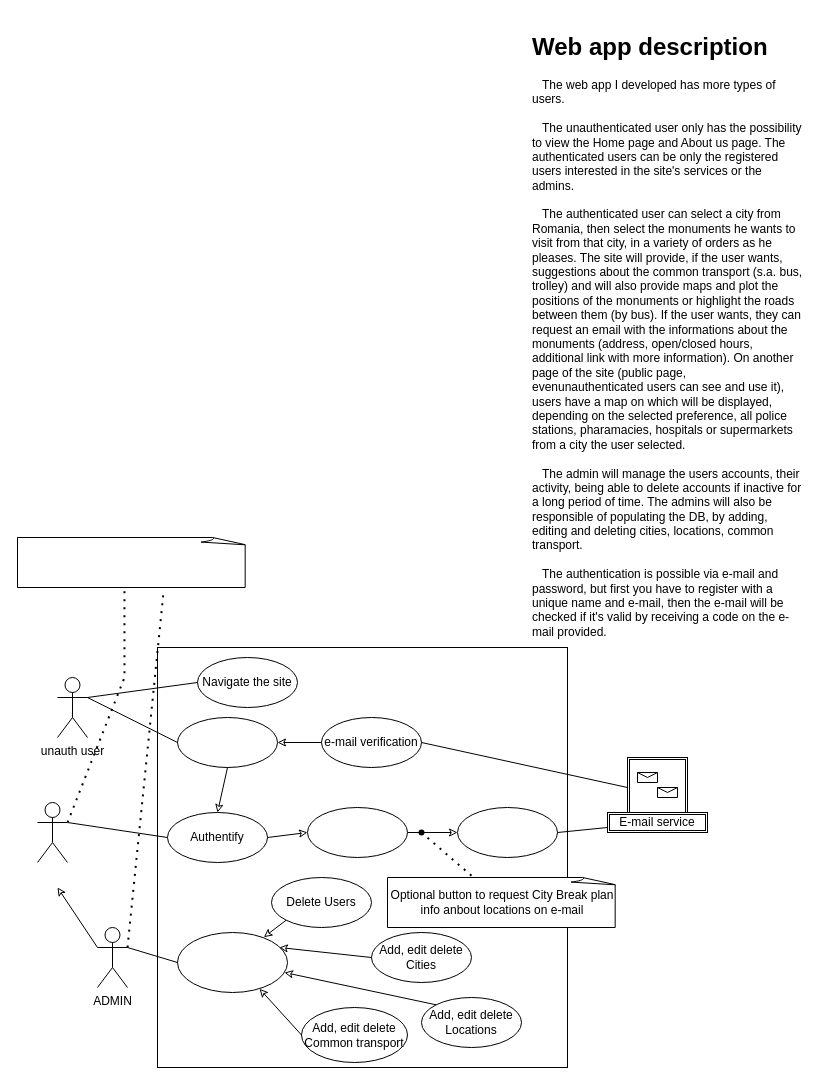
Image size: 825x1085. Some labels were removed from this diagram. The shapes that lost their labels are listed below. From the top down, each one's centre as x and y in pixels, then its label:
(x=132, y=562): The user and admin must be authenticates in alll these cases
(x=227, y=742): Register
(x=52, y=832): auth user
(x=357, y=832): Planning a City break
(x=507, y=832): Request and receive CB plan on e-mail
(x=232, y=962): Managing the DB
